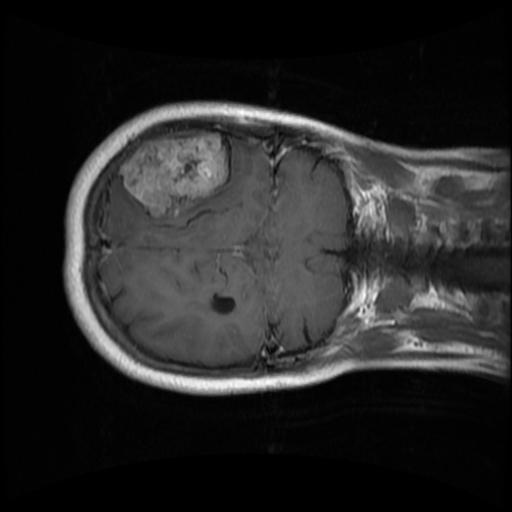meningioma: (119, 129, 228, 220)
